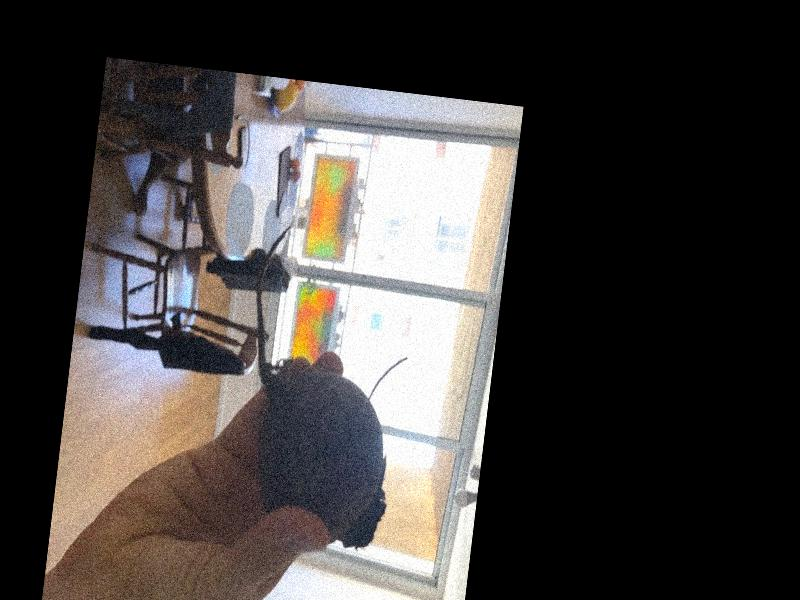Beet: (228, 222, 419, 551)
